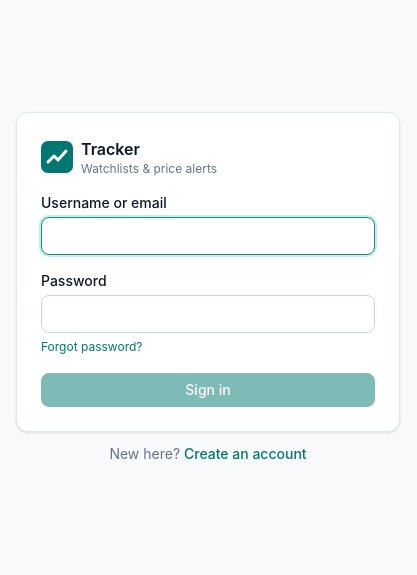
Test: signed-out pages › links from sign-in to registration and password reset
Click the link "Create an account": (245, 454) [184, 445, 307, 462]
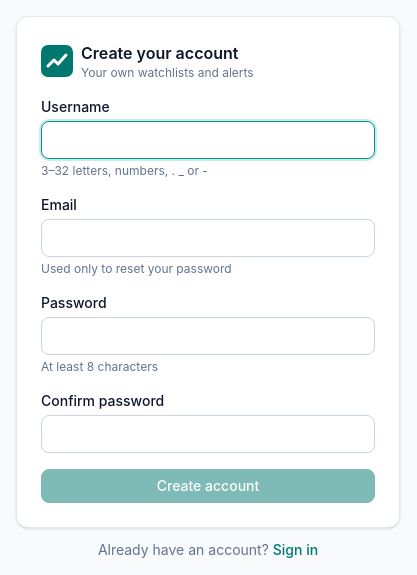
Now the button "Create account" is shown, box [41, 469, 375, 503]
Click the link "Sign in": (296, 550) [273, 541, 318, 558]
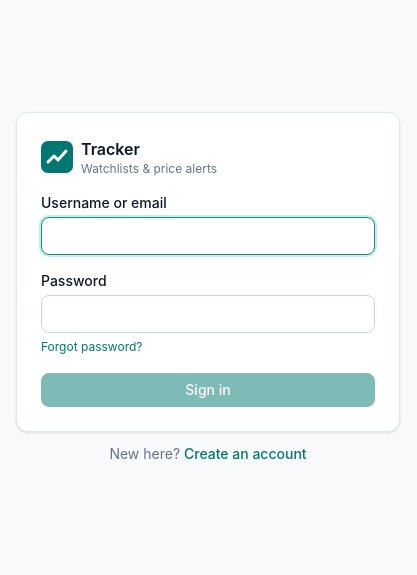
Click the link "Forgot password?": (92, 347) [41, 339, 142, 355]
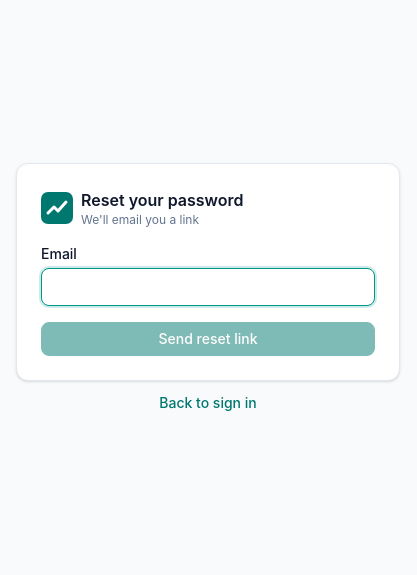
Now the button "Send reset link" is shown, box [41, 322, 375, 356]
